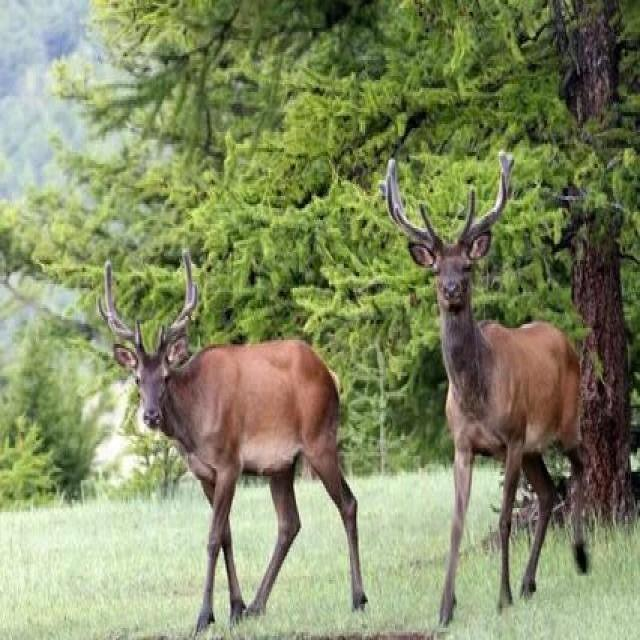deer: (80, 272, 426, 620), (380, 119, 626, 606)
